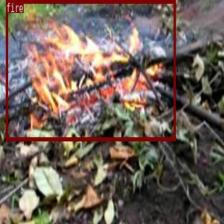fire: (6, 0, 176, 141)
